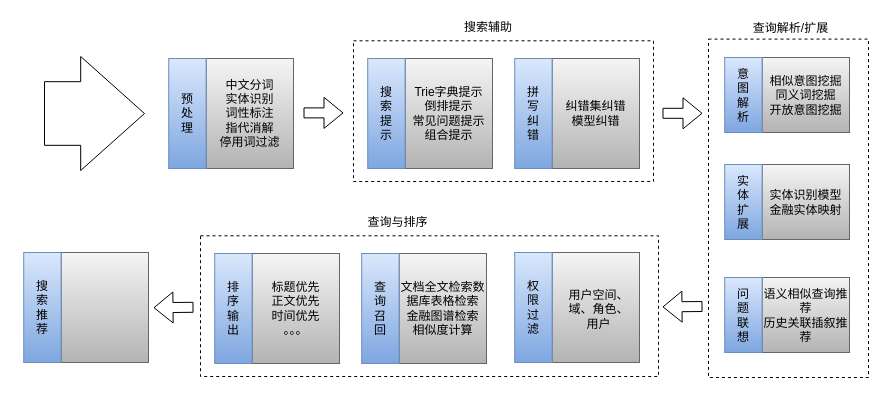
Some shapes in this 886 by 395 pixel diagram are drawn without their labels. The centre of each missing label's shape, as x and y in pixels:
"Query" belongs at point (94, 113).
"关联推荐 热搜推荐 。。。" belongs at point (104, 307).
